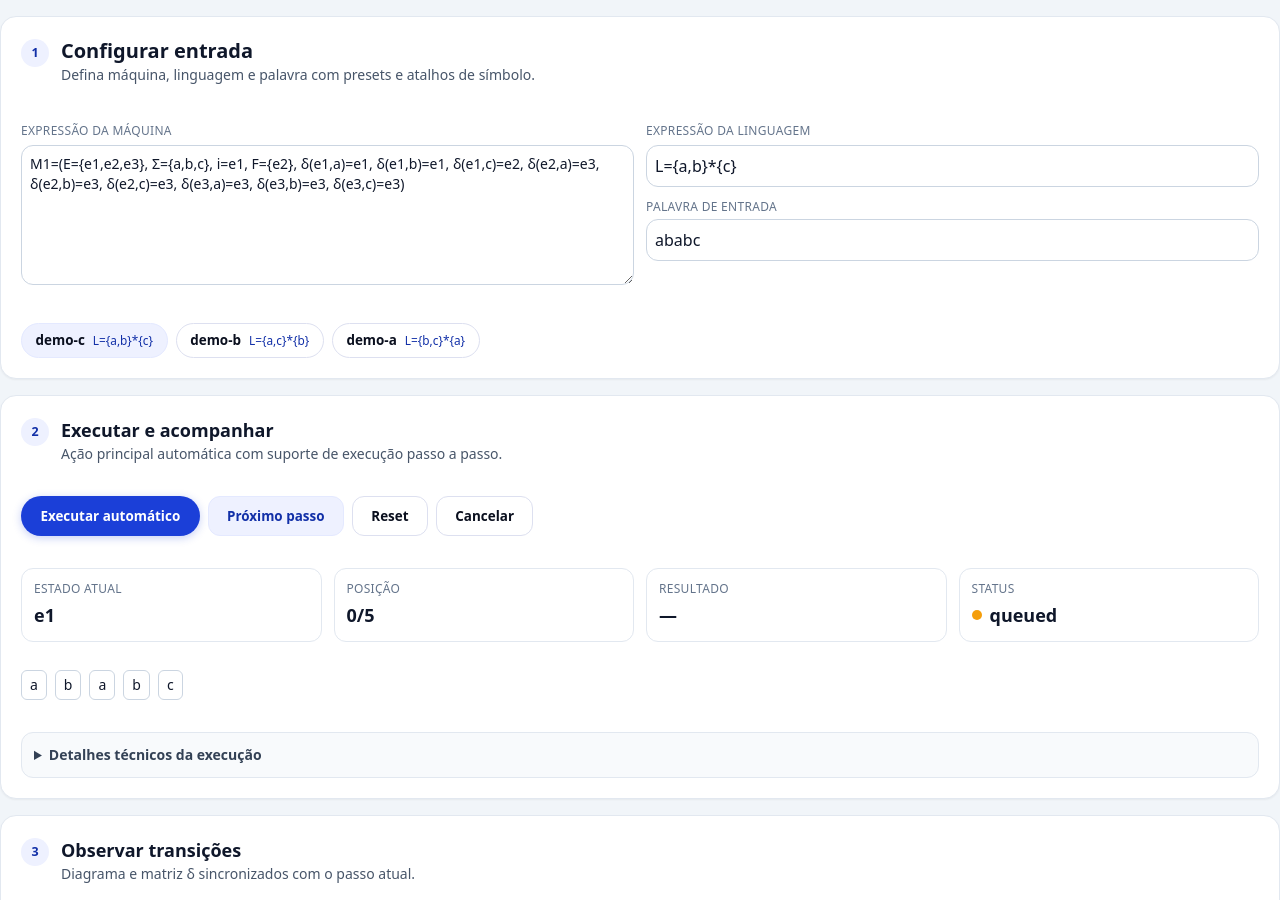
it: AfdSimulator › troca demos e volta status para queued
Click the button "demo-b L={a,c}*{b}" at (250, 340), box x1=176 y1=323 x2=324 y2=358
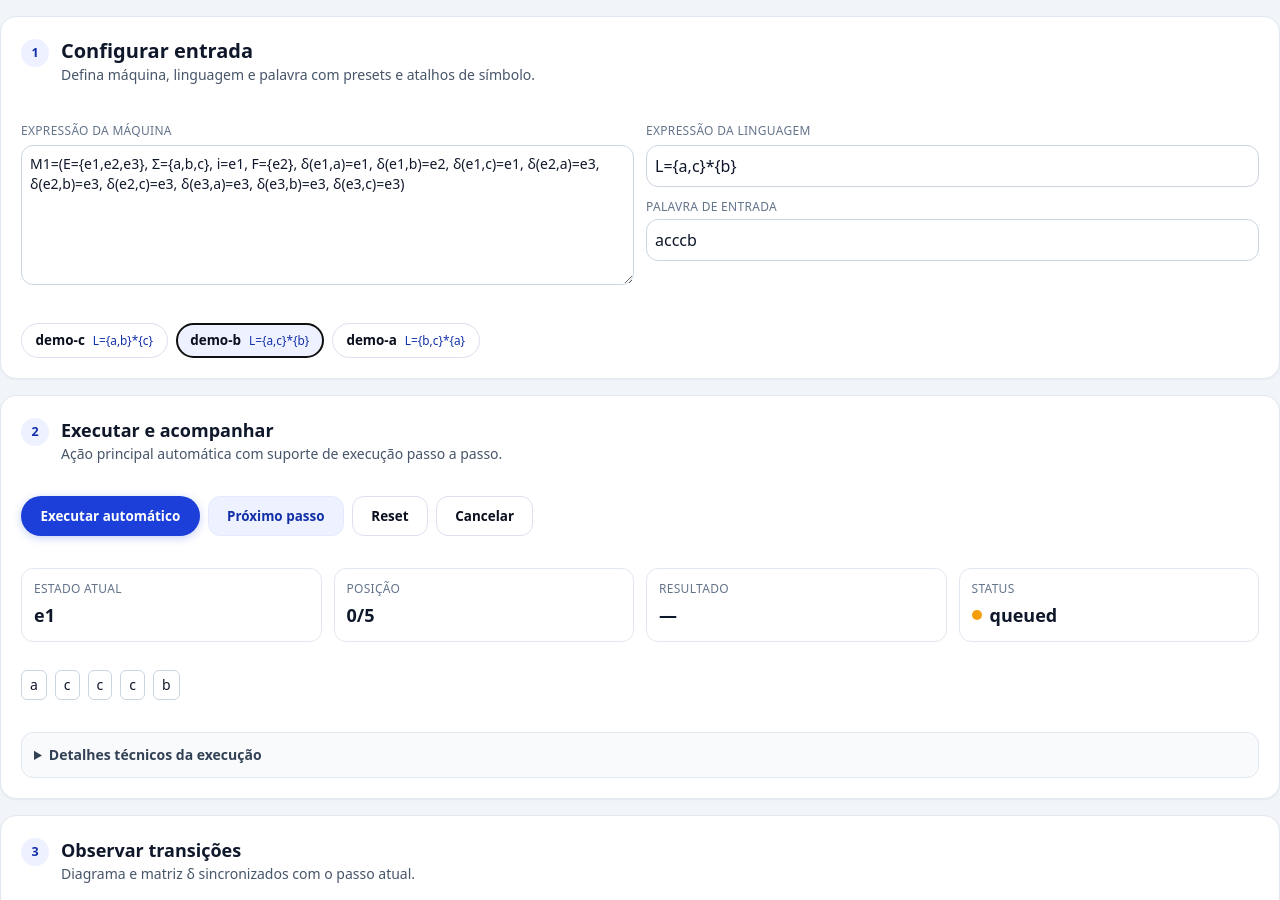
expect the text "queued" is shown: met, box x1=972 y1=603 x2=1057 y2=627
expect the field labelled "Expressão da linguagem" holds "L={a,c}*{b}": met, box x1=646 y1=145 x2=1259 y2=187
expect the field labelled "Palavra de entrada" holds "acccb": met, box x1=646 y1=219 x2=1259 y2=261
